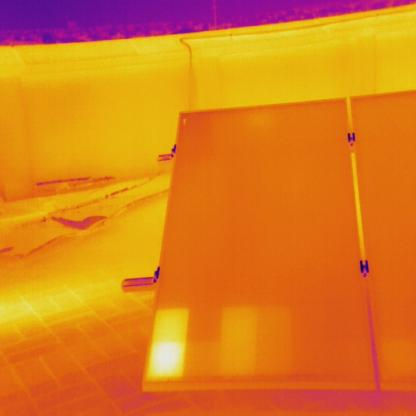hotspot: (255, 303, 294, 381), (220, 304, 260, 379), (149, 310, 188, 376)
